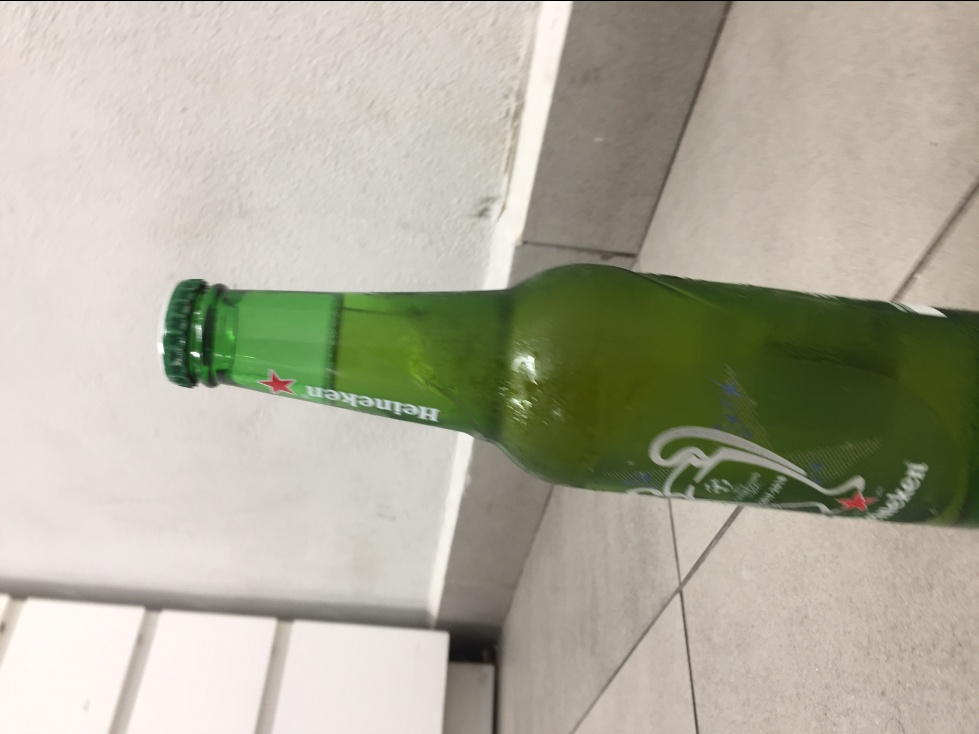heineken: (160, 261, 979, 532)
